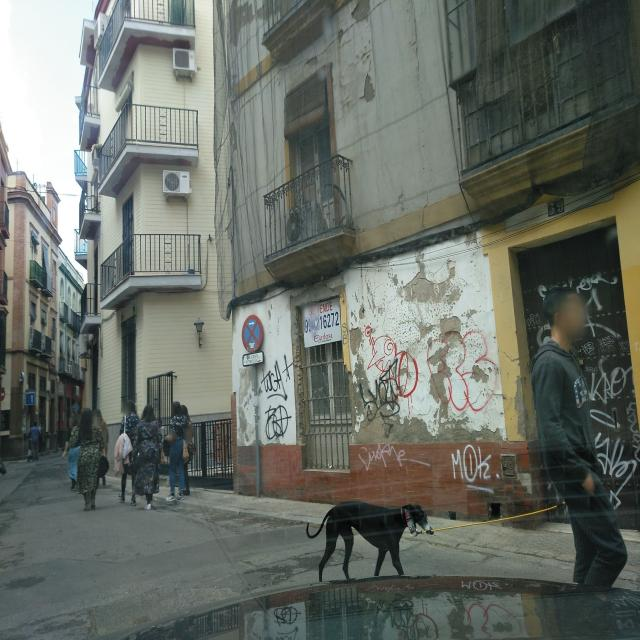forb_stopping: (241, 314, 262, 354)
